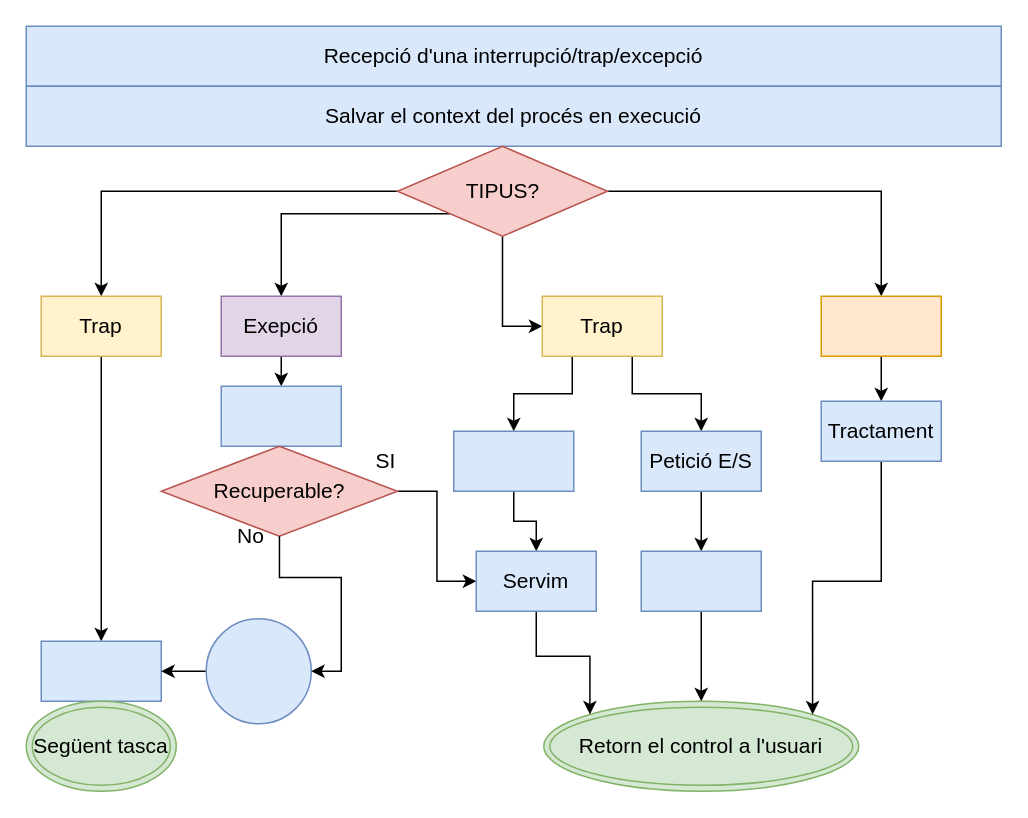
Some shapes in this 1028 by 818 pixel diagram are drawn without their labels. Each missing label, with the centre of its shape:
Bolcat de memòria: (258,670)
Error: (280,415)
Fi: (100,670)
Inici/Espera E/S: (700,580)
Interrupció: (880,325)
Petició no E/S: (513,460)
